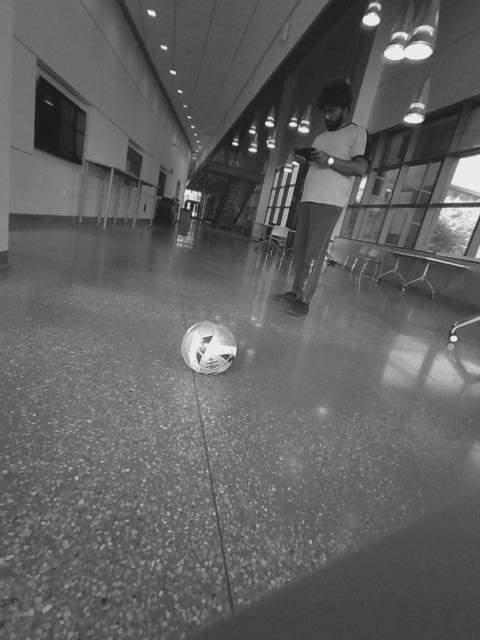ball: (178, 317, 241, 376)
